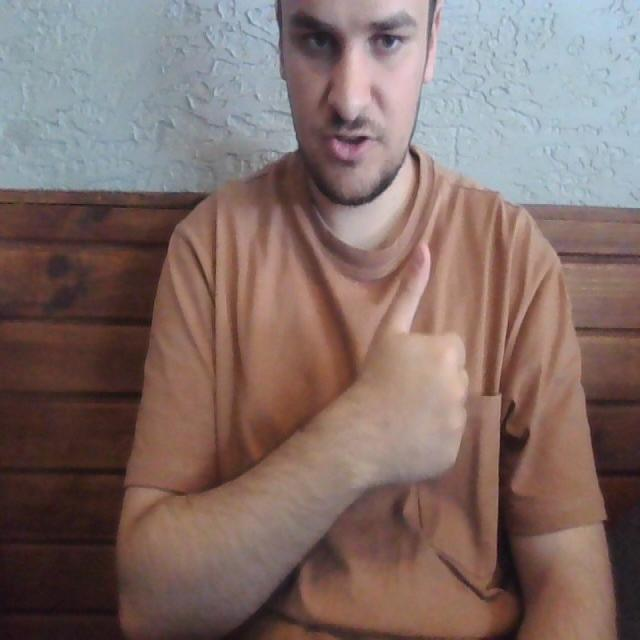Tamam: (354, 236, 481, 496)
